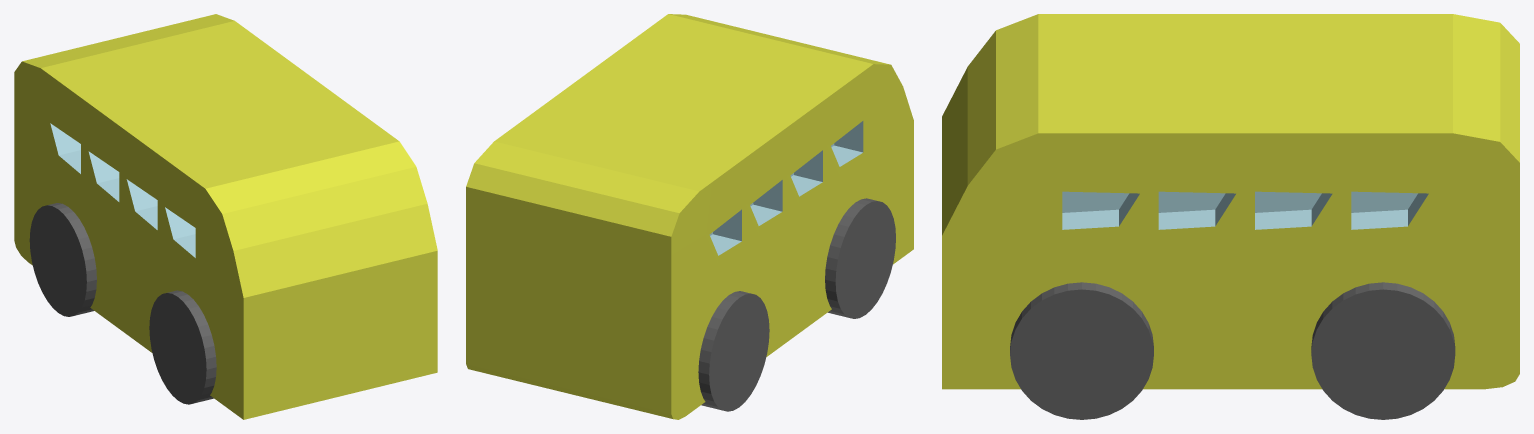
File: Bus.fbx
3 renders of one model, left to right at view 1: azimuth 30°, elevation 25°; view 2: azimuth 150°, elevation 25°; view 3: azimuth 270°, elevation 25°, orthographic. The views are drawn at different scales.
Parts seen in each view (by area): view 1: Bus; view 2: Bus; view 3: Bus.
Part boxes in pixels (x1=…): Bus: x1=14, y1=14, x2=437, y2=419; Bus: x1=466, y1=14, x2=913, y2=419; Bus: x1=942, y1=14, x2=1519, y2=419.
Size of the model in its own units: 222 by 219 by 409.
